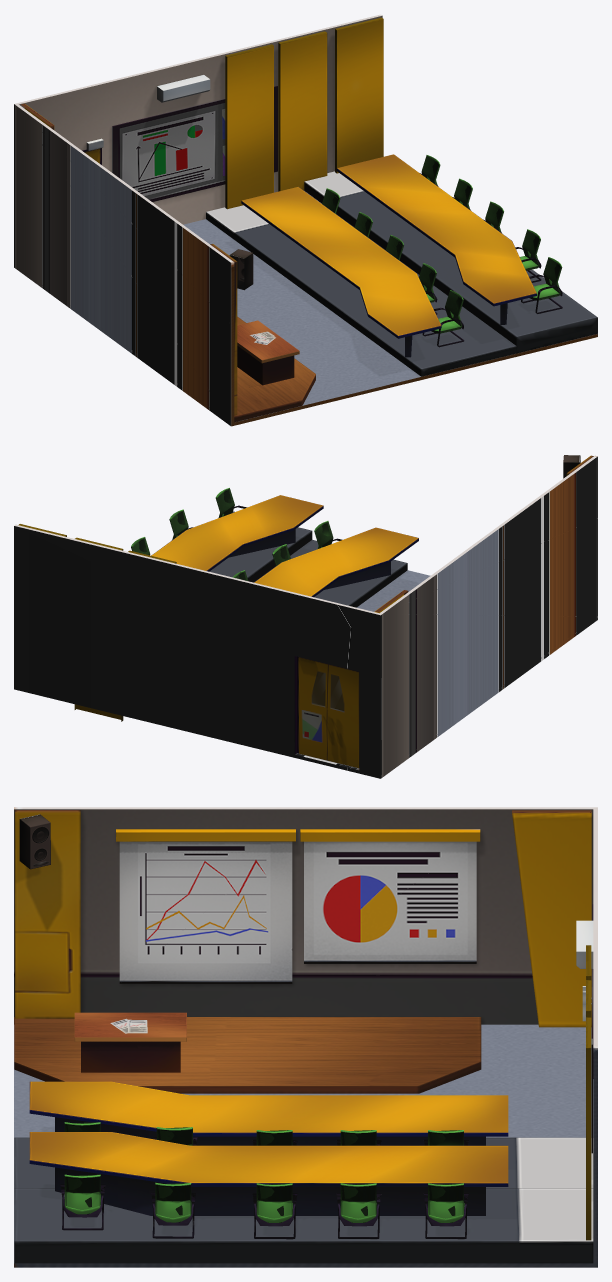
Rendered from Tx_Interior_Education_Commerce_20170621.fbx.
3 views of the same model, one above another, from view 1: azimuth 30°, elevation 25°; view 2: azimuth 150°, elevation 25°; view 3: azimuth 270°, elevation 25° (orthographic). The views are drawn at different scales.
Visible parts, largest first — view 1: group4, desk1, Chair_top, chair_bottom; view 2: group4, desk1, Chair_top, chair_bottom; view 3: group4, desk1, Chair_top, chair_bottom.
Part boxes in pixels (box(x1,y1,x2,y2)): group4: box(14, 14, 597, 426); desk1: box(92, 75, 536, 385); Chair_top: box(420, 155, 562, 313); chair_bottom: box(322, 188, 464, 347); group4: box(14, 455, 597, 778); desk1: box(151, 495, 418, 597); Chair_top: box(131, 488, 246, 555); chair_bottom: box(232, 521, 342, 580); group4: box(14, 807, 597, 1267); desk1: box(29, 920, 593, 1215); Chair_top: box(60, 1174, 468, 1239); chair_bottom: box(64, 1122, 468, 1145).
Bounding box in the file's own units: 52.33 × 23.5 × 53.69.
